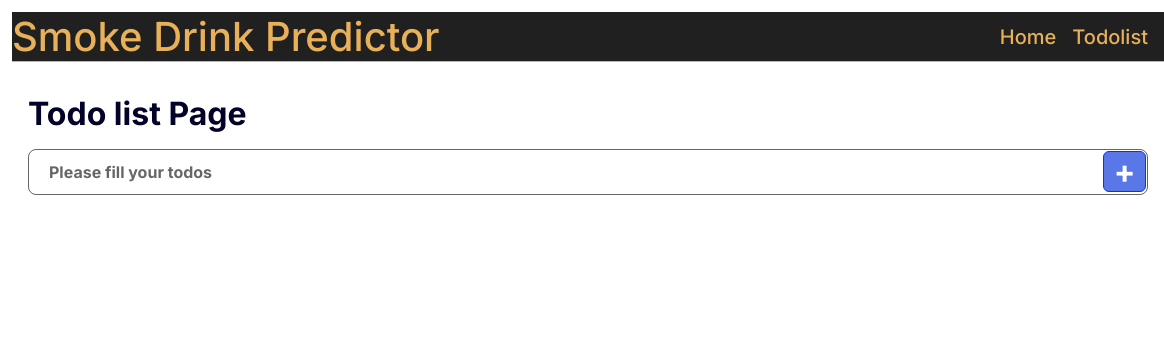
Scenario: TodoList Test › Todo with input and delete
The width and height of the screenshot is (1164, 344).
Type "Hello World 0" into the field with test id "input-todo".
click(588, 172); type("Hello World 0")  # box [28,149,1148,195]
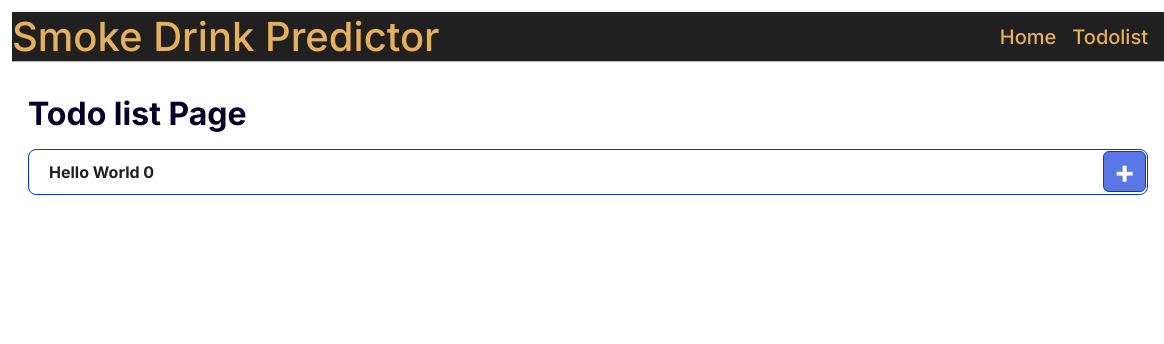
Click the button with test id "btn-add-todo".
click(1125, 172)  # box [1103,151,1147,192]
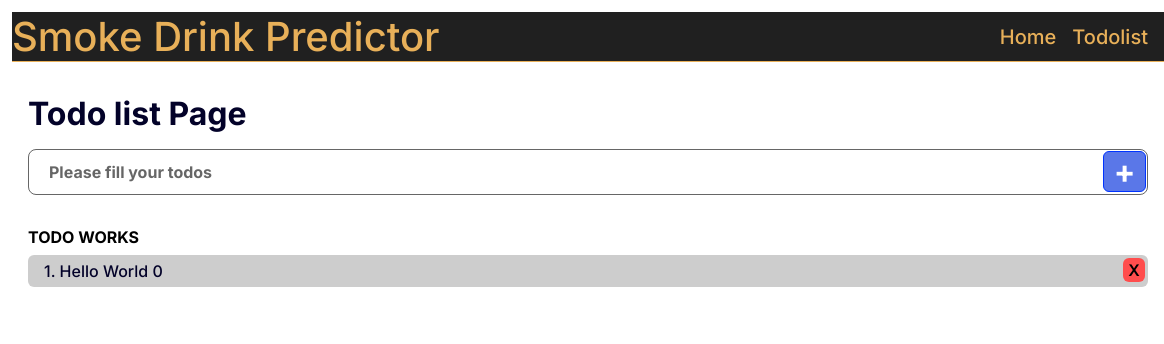
Type "Hello World 1" into the field with test id "input-todo".
click(588, 172); type("Hello World 1")  # box [28,149,1148,195]
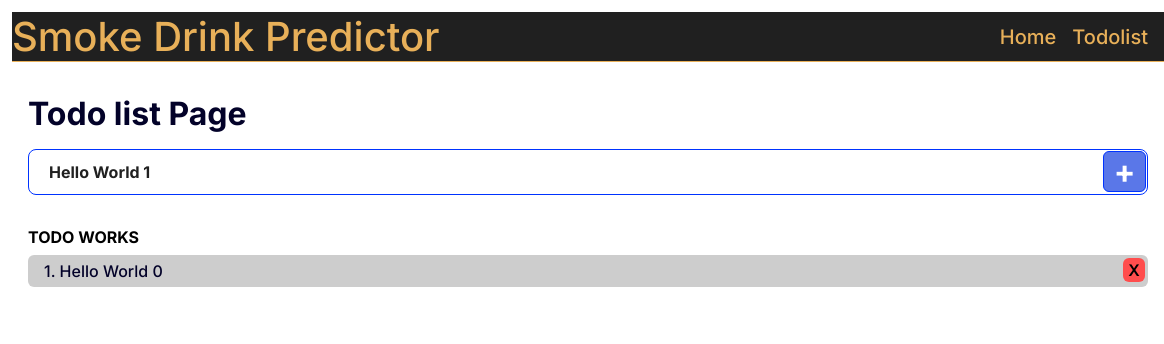
Click the button with test id "btn-add-todo".
click(1125, 172)  # box [1103,151,1147,192]
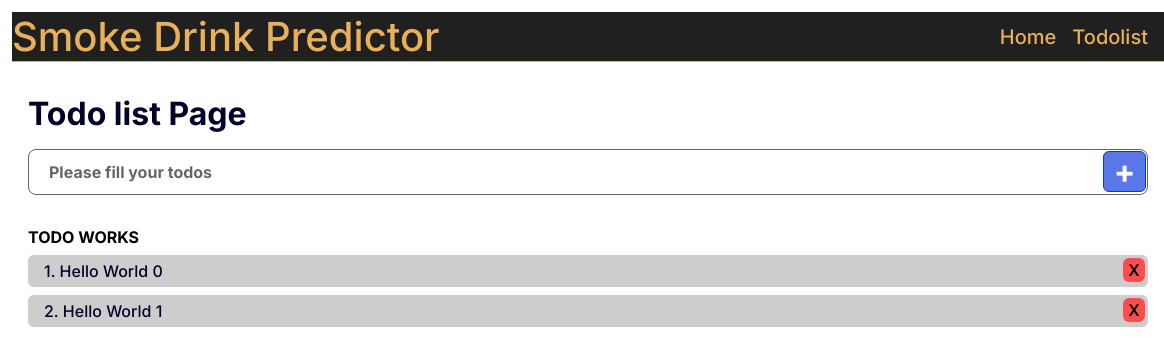
Result: the element with test id "todo-list" shows "Hello World" at [60,261,163,281]
Result: the number of elements with test id "todo-list" is 2 at [28,255,1148,287]; [28,295,1148,327]
Click the button with test id "btn-delete-todo-0".
click(1134, 270)  # box [1123,258,1145,282]
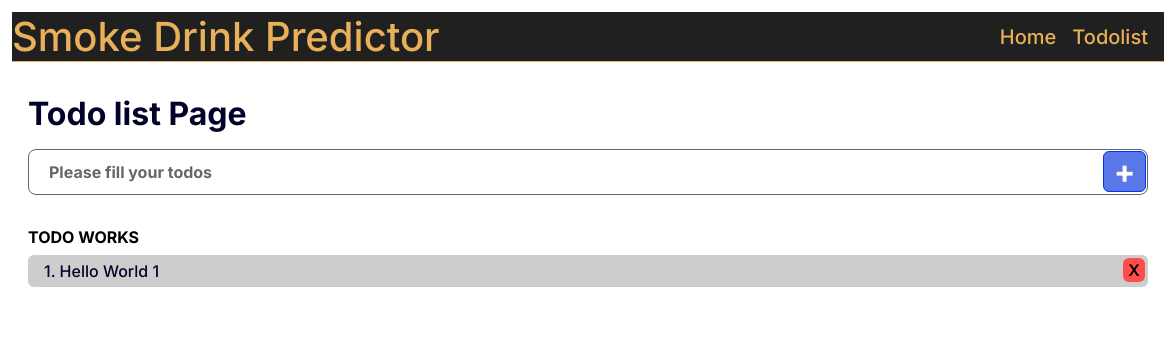
Click the button with test id "btn-delete-todo-0".
click(1134, 270)  # box [1123,258,1145,282]
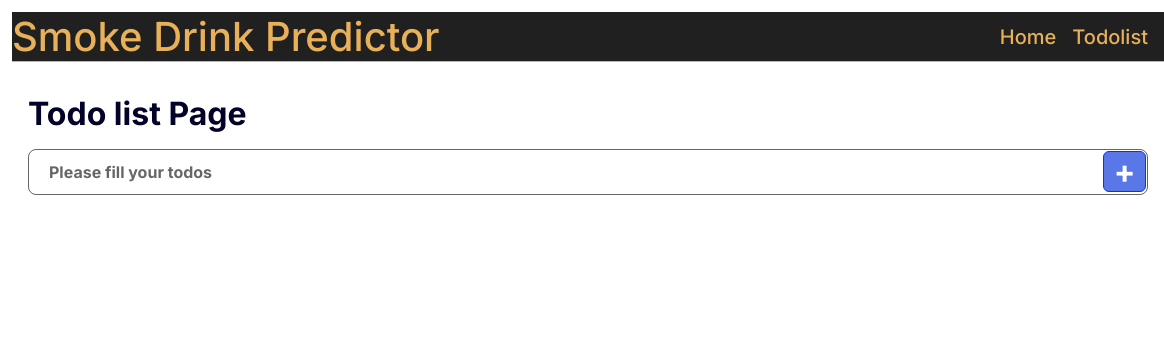
Result: the element with test id "todo-list" is gone
Result: no elements with test id "todo-list" are shown
